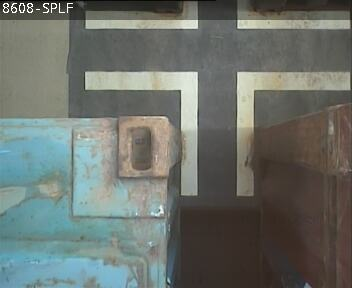groundmarker_1: (85, 71, 349, 194)
